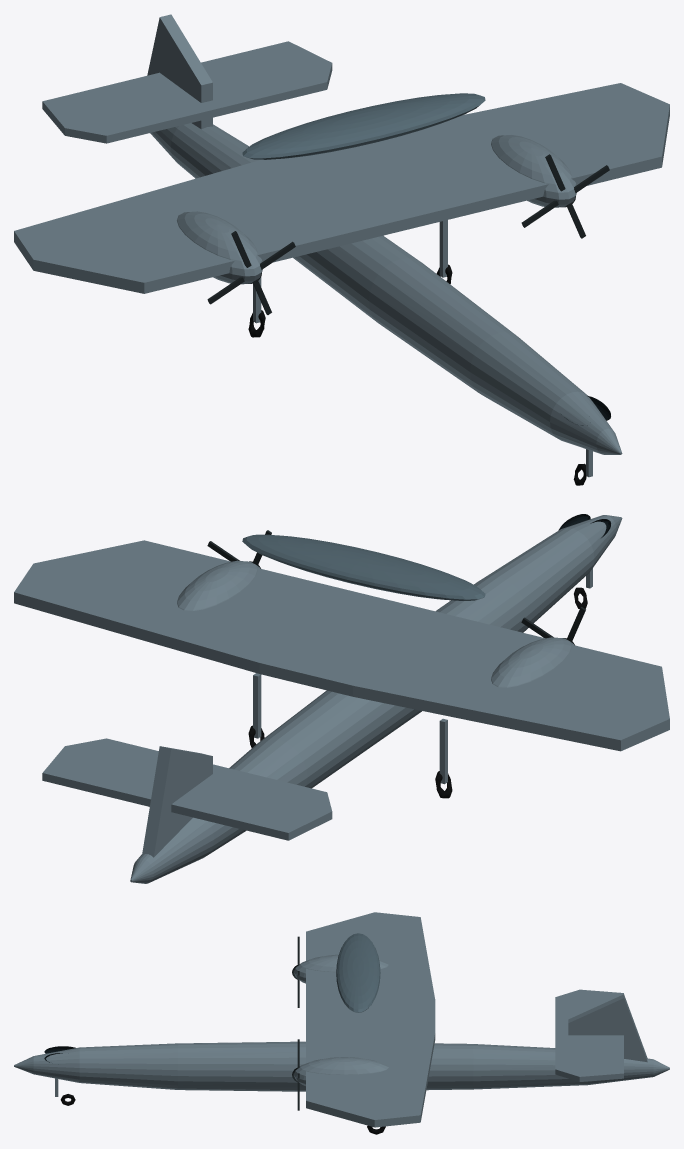
Rendered from GrummanE2D.obj.
The picture shows the model from 3 angles, top to bottom: view 1: azimuth 30°, elevation 25°; view 2: azimuth 150°, elevation 25°; view 3: azimuth 270°, elevation 25°; orthographic projection. The views are drawn at different scales.
Parts seen in each view (by area): view 1: GrummanE2D_Hull, GrummanE2D_Radome, GrummanE2D_Propeller; view 2: GrummanE2D_Hull, GrummanE2D_Radome, GrummanE2D_Propeller, GrummanE2D_Rubber; view 3: GrummanE2D_Hull, GrummanE2D_Radome, GrummanE2D_Propeller.
Boxes of the visible parts, x1,y1,x2,y2 form: GrummanE2D_Hull: (14, 14, 669, 477); GrummanE2D_Radome: (242, 93, 485, 159); GrummanE2D_Propeller: (207, 154, 609, 314); GrummanE2D_Hull: (14, 515, 669, 883); GrummanE2D_Radome: (242, 534, 485, 600); GrummanE2D_Propeller: (207, 530, 585, 645); GrummanE2D_Rubber: (248, 587, 587, 798); GrummanE2D_Hull: (14, 912, 669, 1127); GrummanE2D_Radome: (336, 933, 380, 1012); GrummanE2D_Propeller: (292, 936, 299, 1110).
Size of the model in its own units: 30 by 9.43 by 40.
